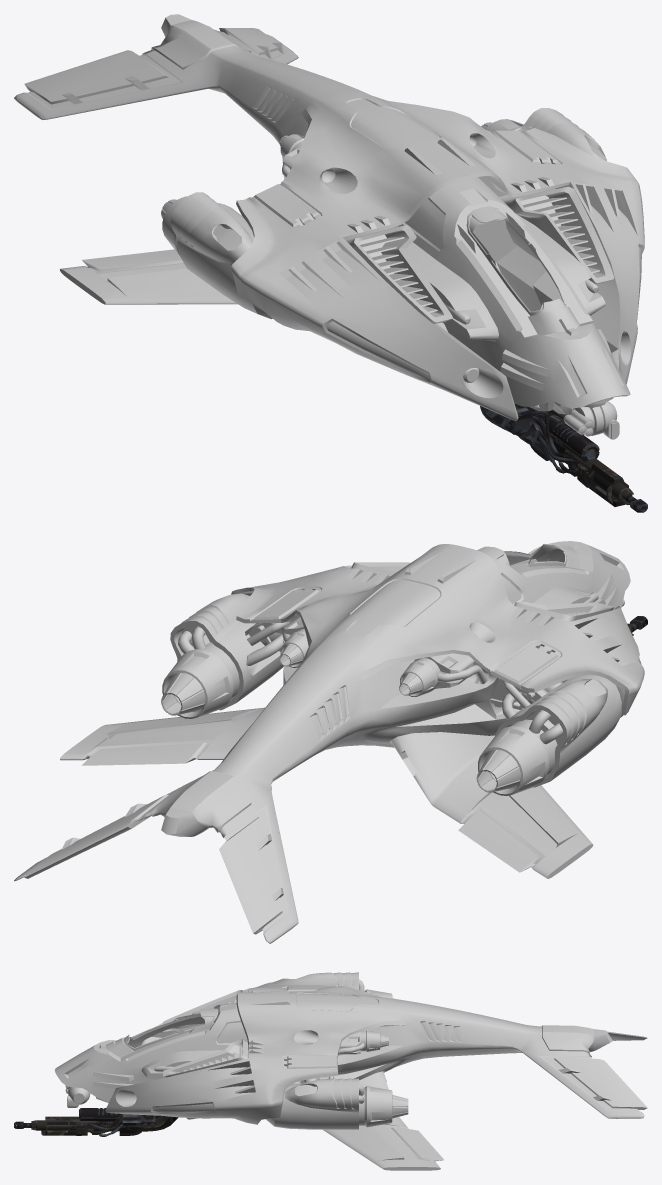
The picture shows the model from 3 angles, top to bottom: view 1: azimuth 30°, elevation 25°; view 2: azimuth 150°, elevation 25°; view 3: azimuth 270°, elevation 25°; orthographic projection. The views are drawn at different scales.
Visible parts, largest first — view 1: plane body, engines, gun body, Shape001, gun turret; view 2: plane body, engines; view 3: plane body, engines, gun body, gun turret, Shape001.
Part boxes in pixels (<box>): plane body: <box>14,14,644,421</box>; engines: <box>162,108,606,319</box>; gun body: <box>530,409,633,506</box>; Shape001: <box>563,401,619,439</box>; gun turret: <box>480,404,539,446</box>; plane body: <box>14,541,644,943</box>; engines: <box>162,593,621,795</box>; plane body: <box>54,978,647,1170</box>; engines: <box>265,972,392,1129</box>; gun body: <box>31,1108,142,1136</box>; gun turret: <box>122,1114,178,1131</box>; Shape001: <box>65,1085,90,1107</box>.
Size of the model in its own units: 180 by 323 by 77.74.
